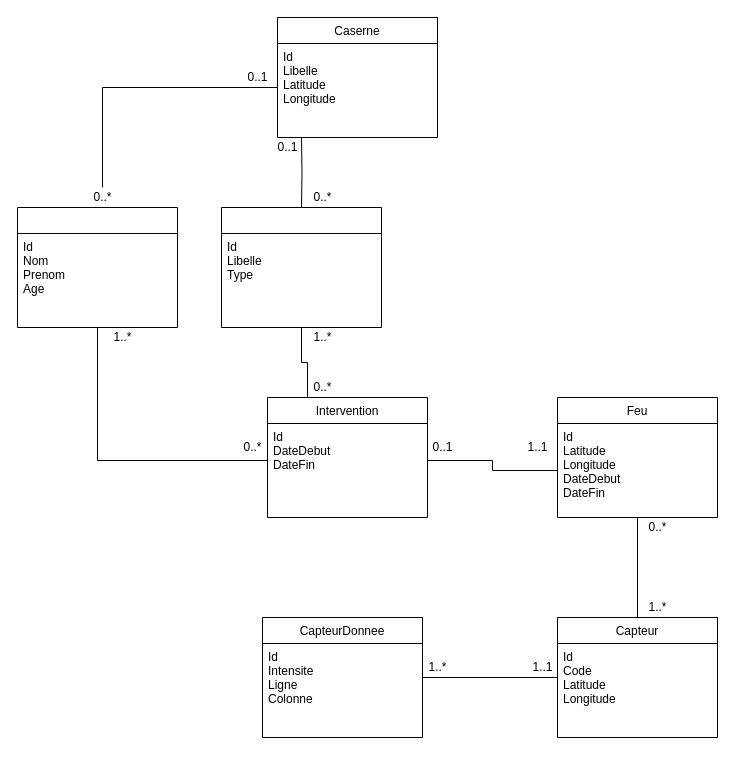
Some shapes in this 735 by 758 pixel diagram are drawn without their labels. The shapes that lost their labels are listed below. From the top down, each one's box as (x1, y1, x2, y2) in pixels, then its label:
(16, 206, 178, 328): Pompier
(220, 206, 382, 328): Vehicule
